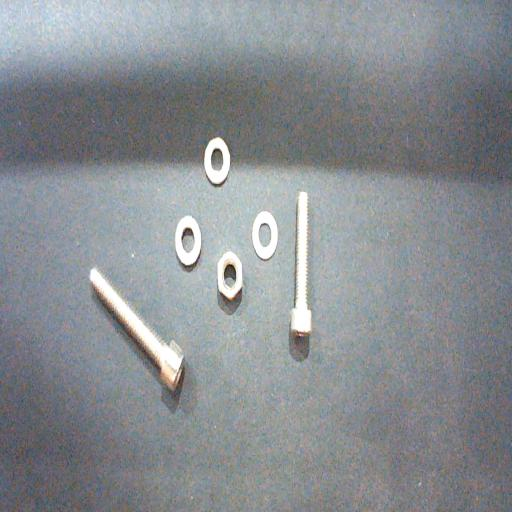nut: (217, 252, 243, 302)
screw: (90, 266, 184, 394), (290, 191, 311, 337)
washer: (175, 216, 201, 266), (252, 210, 278, 260), (204, 138, 230, 186)
